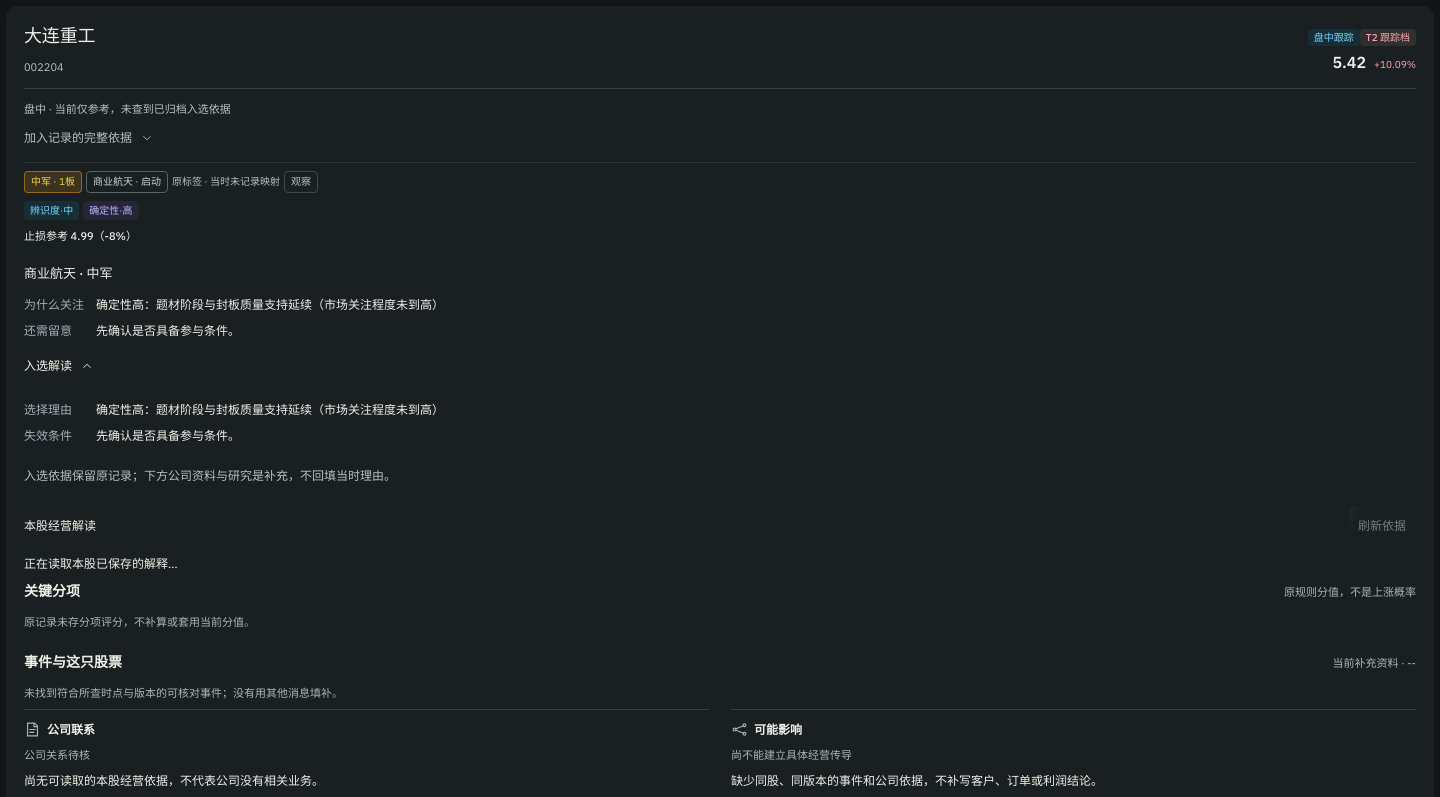
Test case: 首次加入记录的来源与参考身份 › preserves the archive-read failure reason rather than describing the stock as never selected
Click the button "加入记录的完整依据" at (89, 138), box [24, 122, 154, 154]
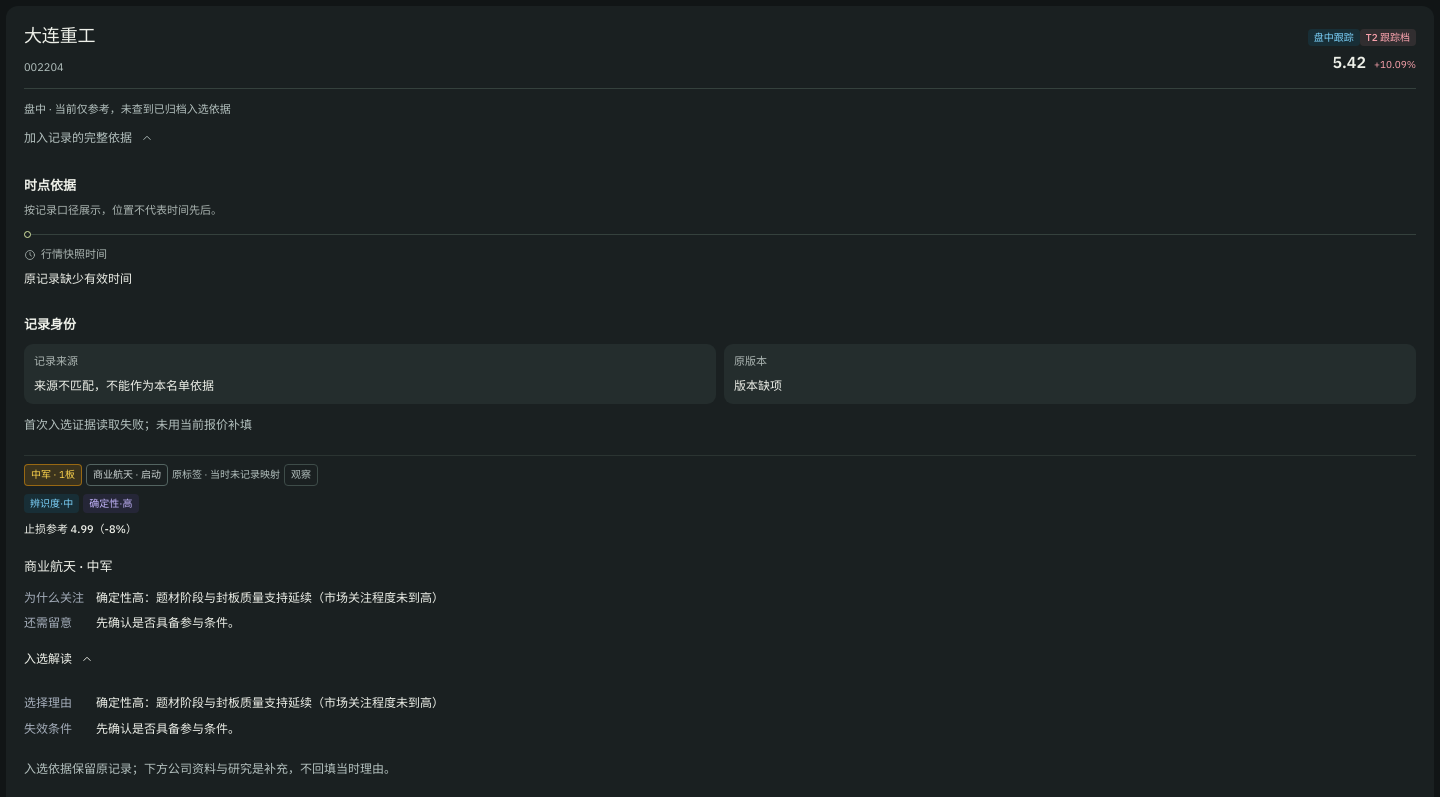
Result: the element named "盘中首次加入记录" shows "首次入选证据读取失败" at [24, 418, 252, 432]
